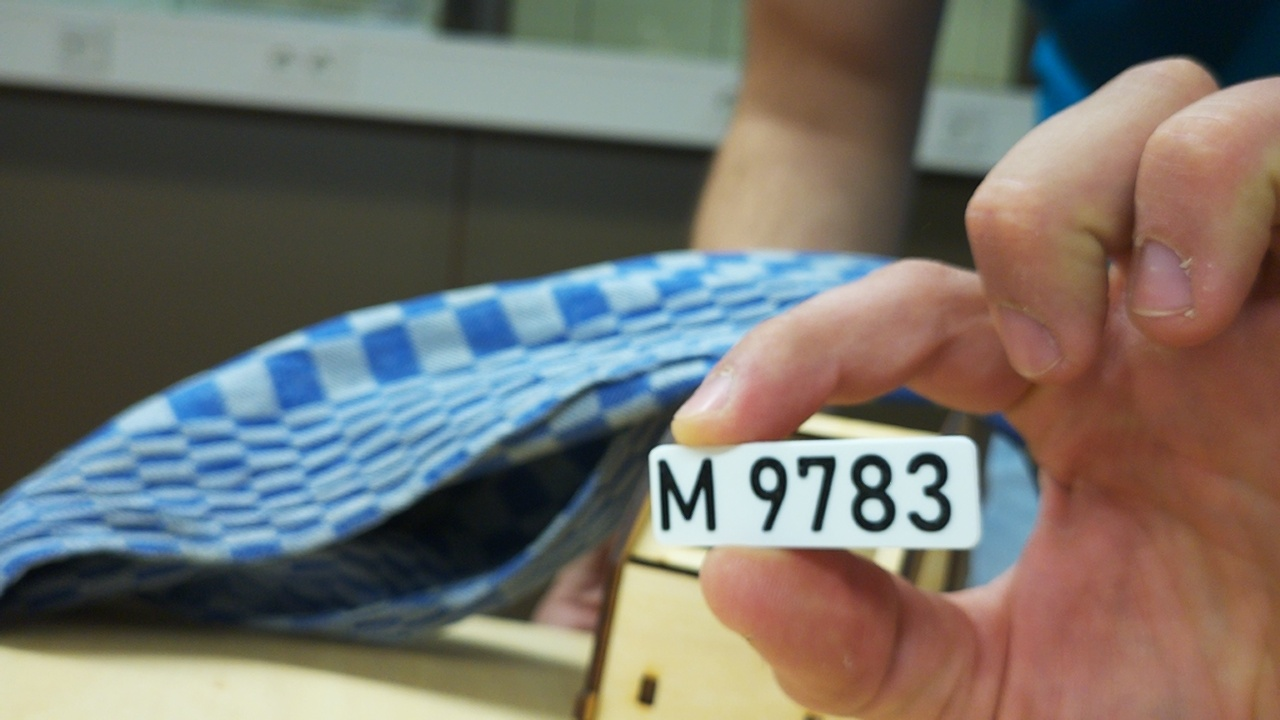license_plate: (646, 433, 990, 552)
